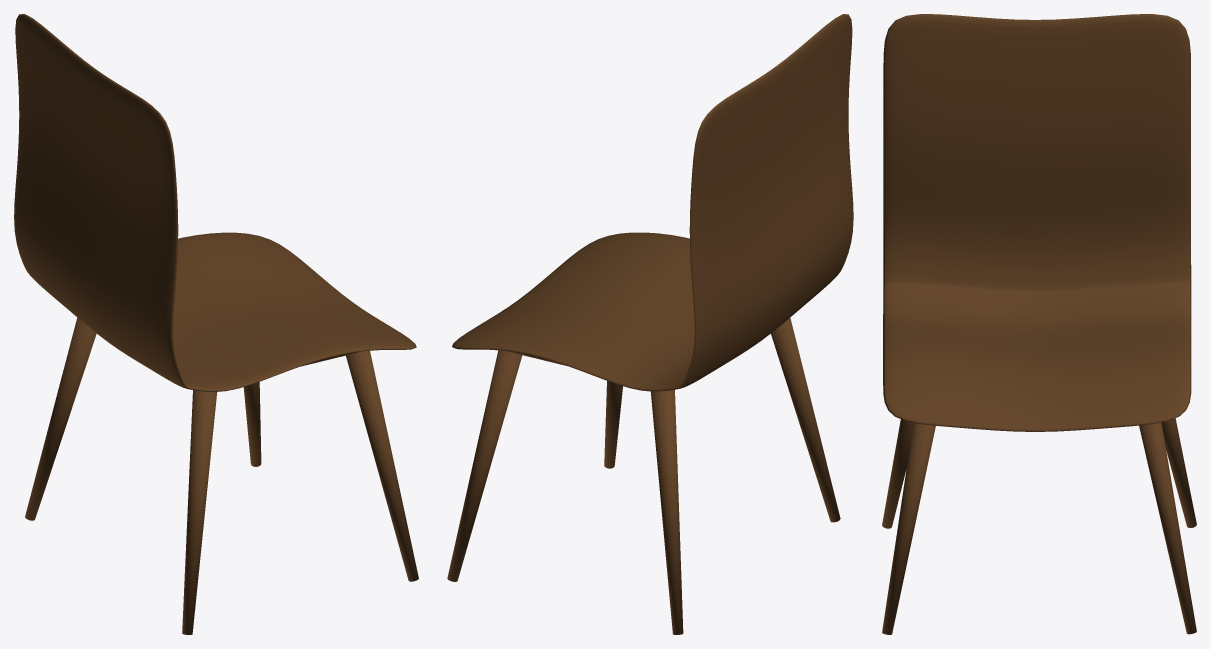
Rendered from chair01.glb.
3 renders of one model, left to right at view 1: azimuth 30°, elevation 25°; view 2: azimuth 150°, elevation 25°; view 3: azimuth 270°, elevation 25°, orthographic. The views are drawn at different scales.
Parts seen in each view (by area): view 1: chair; view 2: chair; view 3: chair.
Boxes of the visible parts, x1,y1,x2,y2 form: chair: [14, 14, 418, 634]; chair: [447, 14, 853, 634]; chair: [882, 14, 1196, 634].
Size of the model in its own units: 0.4915 by 0.9348 by 0.5281.
